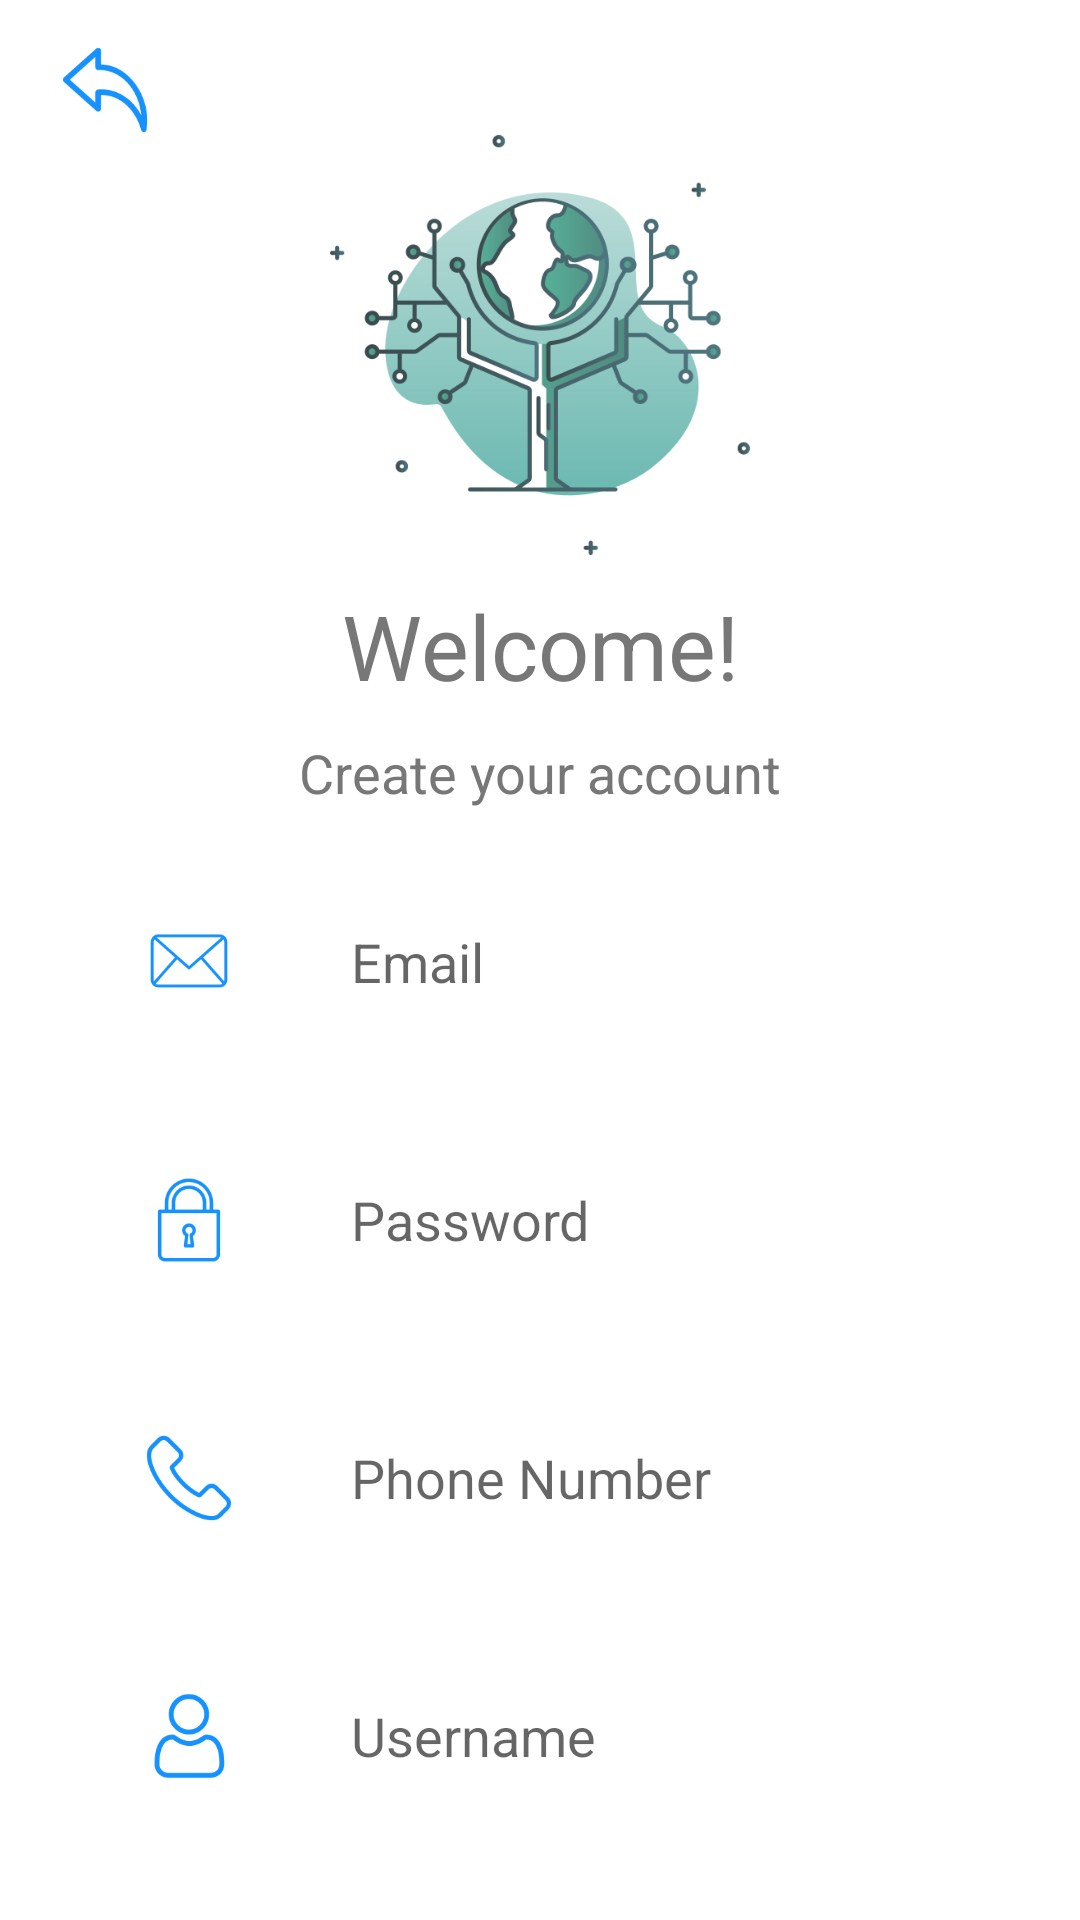

Named icons in this screenshot (1080px x 1920px) and their bounding boxes, (x1, y1, x2, y2):
back: (63, 48, 148, 132)
lock: (157, 1178, 221, 1262)
telephone: (147, 1435, 231, 1521)
